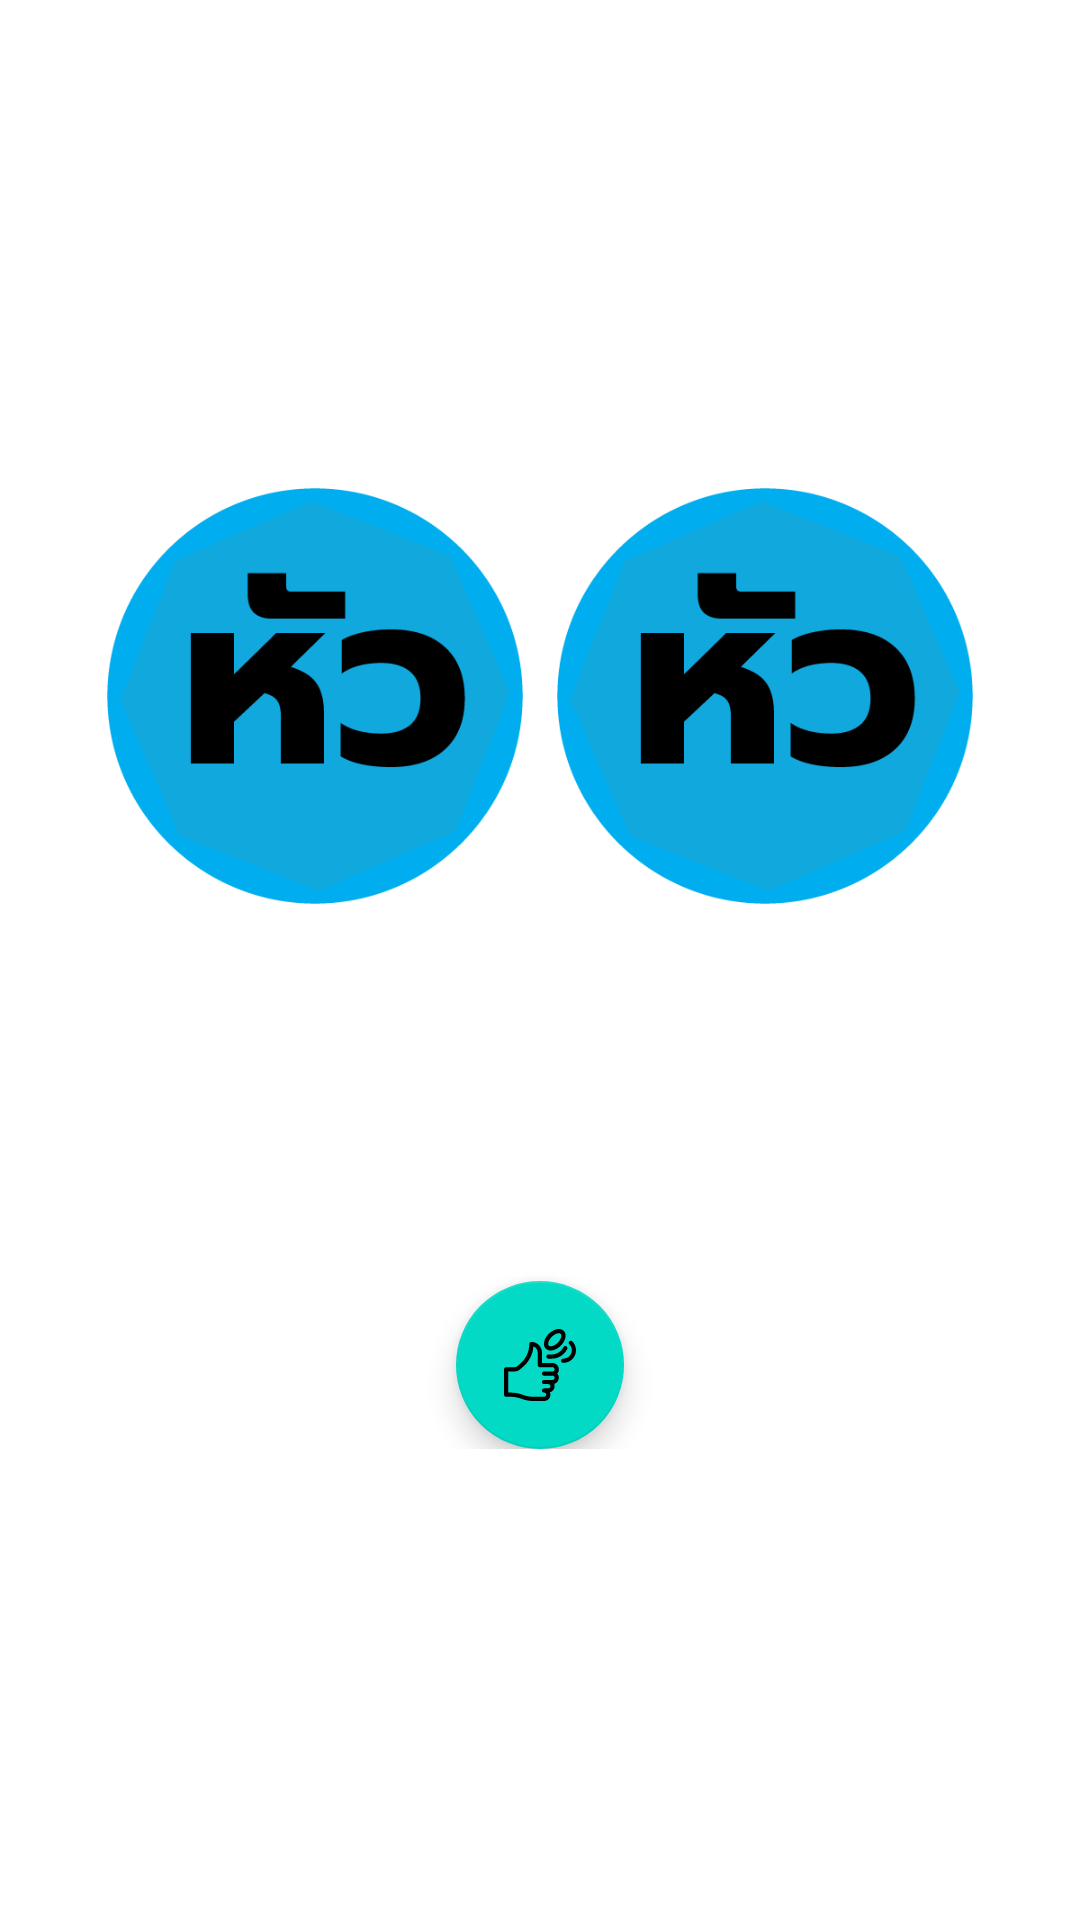

Locate icon controls on the screen. Image size 1080 x 1920, boxes as box(x1, y1, x2, y2).
coin toss: box(456, 1281, 624, 1449)
